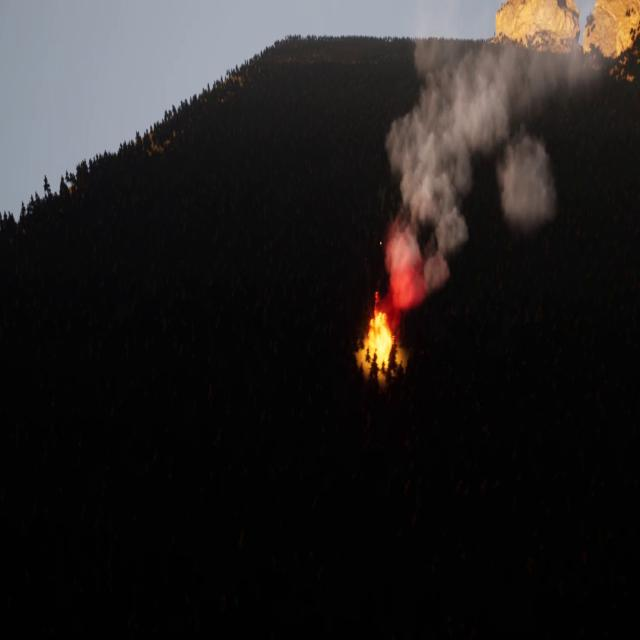fire: (362, 308, 403, 369)
smoke: (385, 19, 605, 323)
